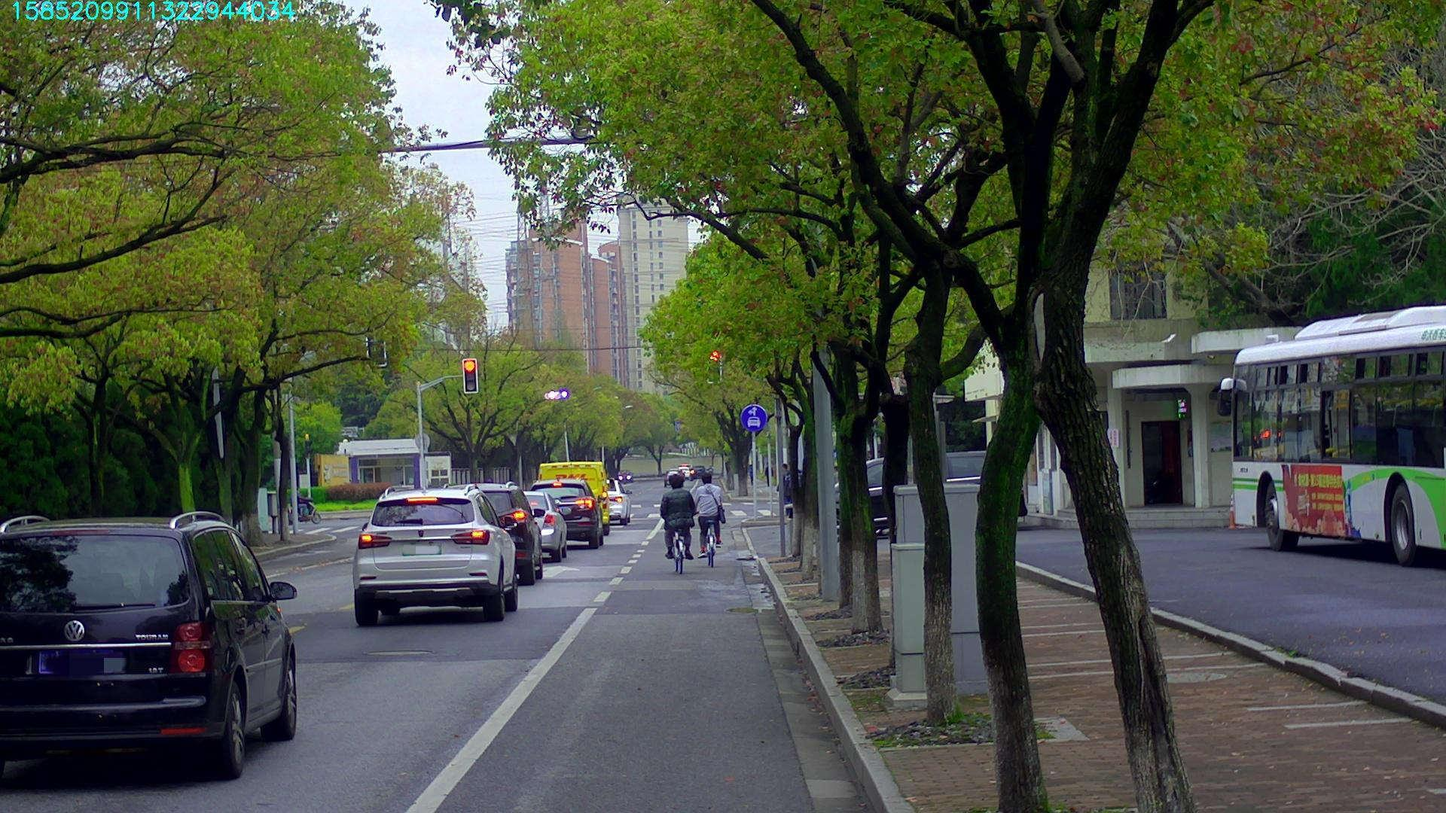red: (464, 358, 476, 391), (707, 350, 720, 380)
